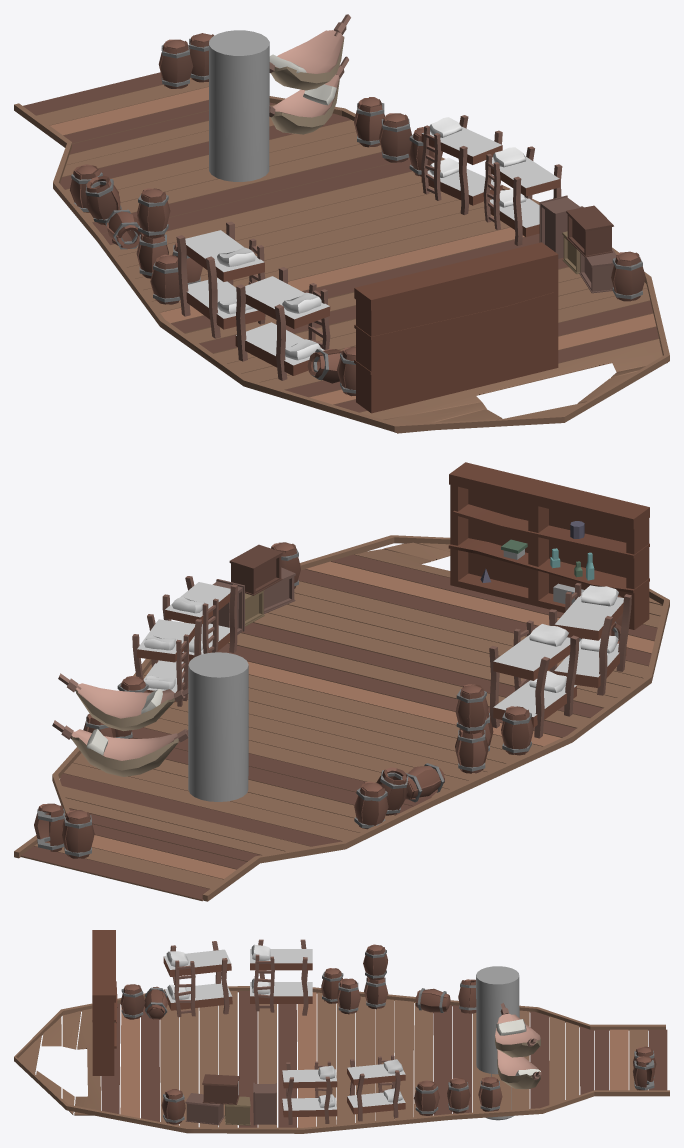
3 renders of one model, top to bottom at view 1: azimuth 30°, elevation 25°; view 2: azimuth 150°, elevation 25°; view 3: azimuth 270°, elevation 25°, orthographic. The views are drawn at different scales.
Parts seen in each view (by area): view 1: segment_3; view 2: segment_3; view 3: segment_3.
Boxes of the visible parts, left/top/right/bottom form: segment_3: left=14, top=14, right=669, bottom=433; segment_3: left=14, top=462, right=669, bottom=901; segment_3: left=14, top=930, right=669, bottom=1133.
Bounding box in the file's own units: 30.28 × 13.53 × 58.27.
